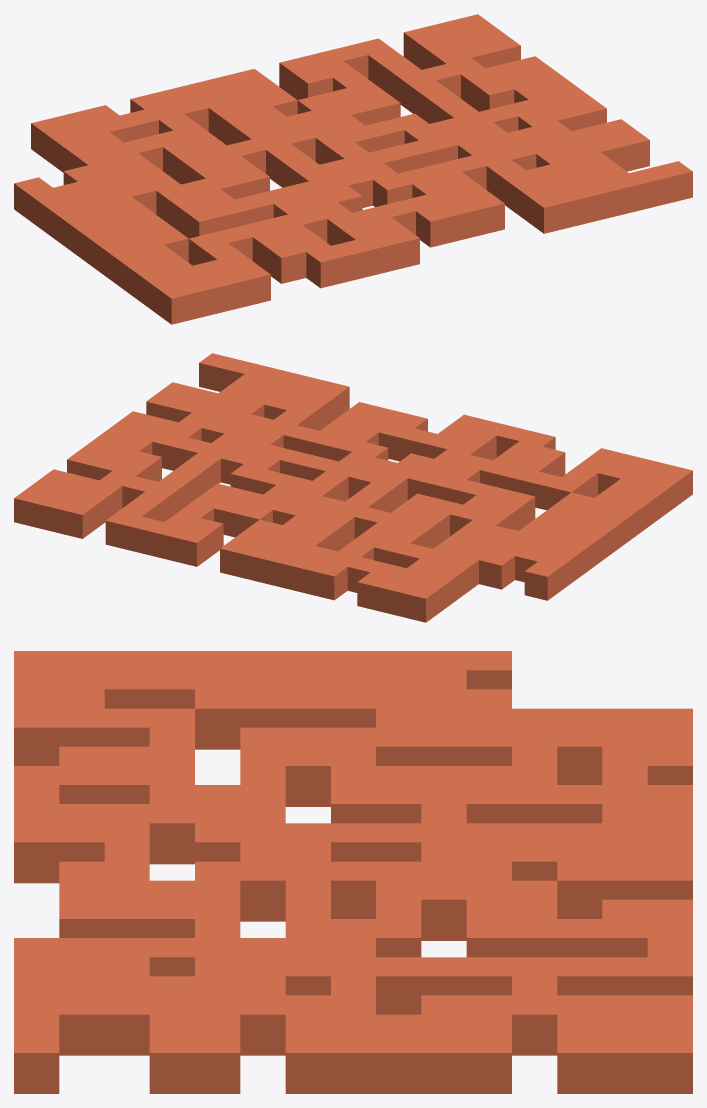
File: MazeFloor3.fbx
3 views of the same model, one above another, from view 1: azimuth 30°, elevation 25°; view 2: azimuth 150°, elevation 25°; view 3: azimuth 270°, elevation 25° (orthographic). The views are drawn at different scales.
Parts seen in each view (by area): view 1: Floor3; view 2: Floor3; view 3: Floor3.
Boxes of the visible parts, left/top/right/bottom form: Floor3: left=14, top=14, right=692, bottom=324; Floor3: left=14, top=353, right=692, bottom=622; Floor3: left=14, top=651, right=692, bottom=1093.
Size of the model in its own units: 4200 by 200 by 3000.
